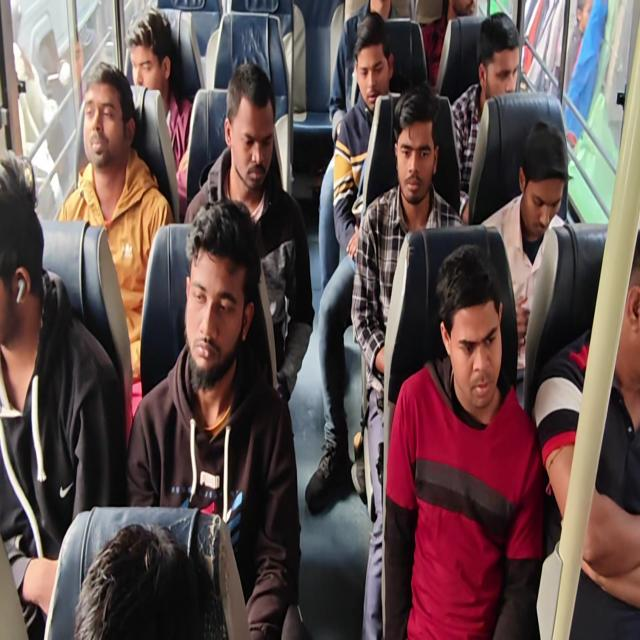person: (70, 515, 226, 640), (430, 240, 520, 437), (186, 184, 256, 385), (0, 146, 52, 336), (223, 56, 286, 212), (515, 112, 577, 255), (389, 78, 447, 217), (80, 52, 134, 180), (348, 11, 408, 113), (608, 224, 640, 390), (481, 8, 536, 104), (124, 0, 177, 94), (449, 0, 489, 36), (361, 0, 405, 31)
